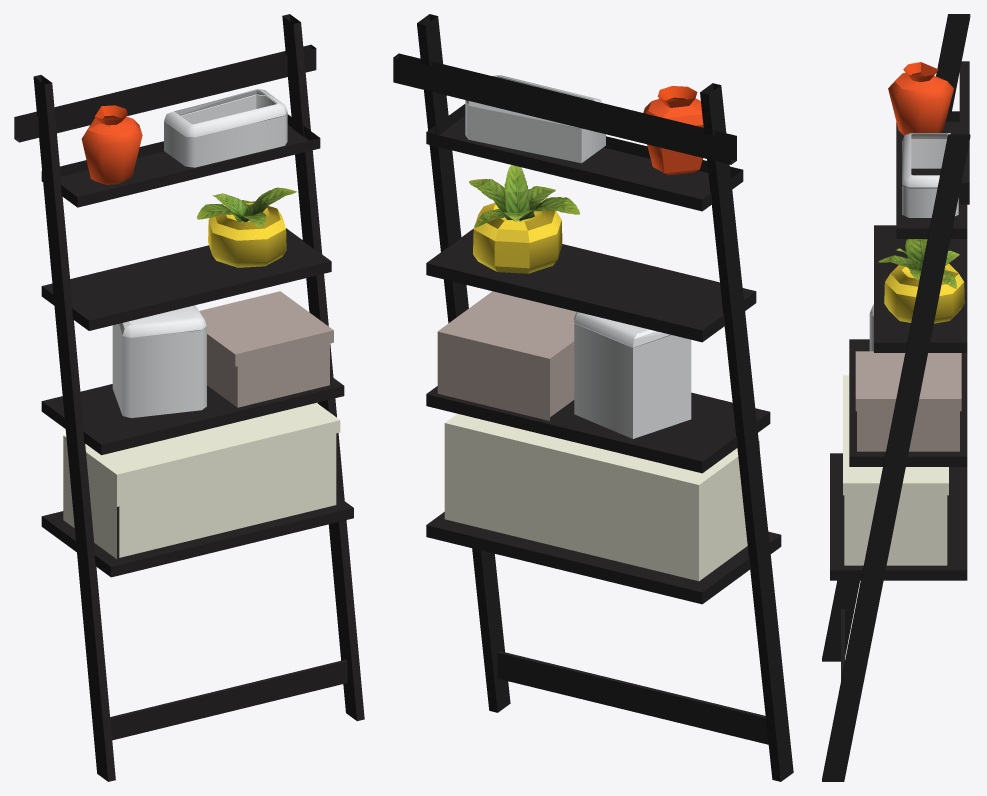
Rendered from M_chuangtoujia01.FBX.
3 views of the same model, side by side, from view 1: azimuth 30°, elevation 25°; view 2: azimuth 150°, elevation 25°; view 3: azimuth 270°, elevation 25° (orthographic). The views are drawn at different scales.
Parts seen in each view (by area): view 1: M_chuangtoujia01_01, M_chuangtoujia01_02, M_chuangtoujia01_03; view 2: M_chuangtoujia01_01, M_chuangtoujia01_02, M_chuangtoujia01_03; view 3: M_chuangtoujia01_01, M_chuangtoujia01_02, M_chuangtoujia01_03.
Boxes of the visible parts, left/top/right/bottom form: M_chuangtoujia01_01: left=14, top=14, right=364, bottom=781; M_chuangtoujia01_02: left=81, top=89, right=287, bottom=417; M_chuangtoujia01_03: left=197, top=187, right=296, bottom=227; M_chuangtoujia01_01: left=393, top=14, right=793, bottom=781; M_chuangtoujia01_02: left=465, top=75, right=703, bottom=438; M_chuangtoujia01_03: left=469, top=165, right=579, bottom=227; M_chuangtoujia01_01: left=822, top=14, right=970, bottom=781; M_chuangtoujia01_02: left=869, top=62, right=964, bottom=351; M_chuangtoujia01_03: left=878, top=239, right=959, bottom=288.
Bounding box in the file's own units: 1.43 × 3 × 0.6362.
